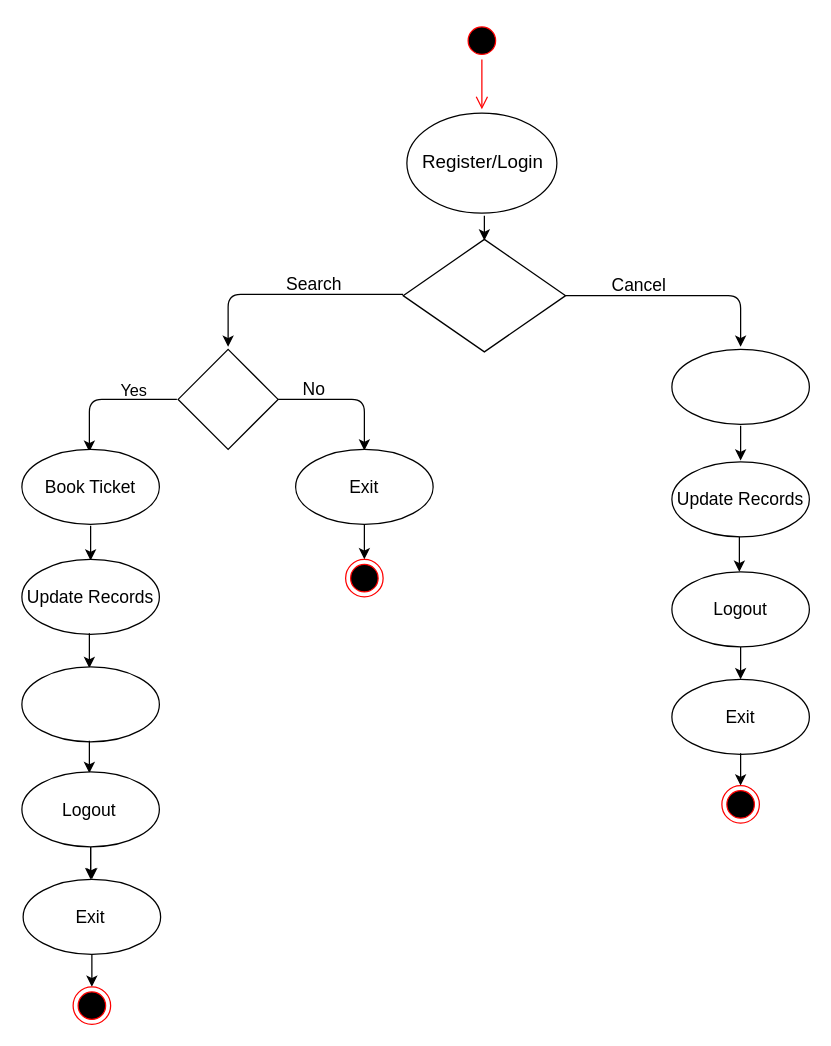
Image size: 831x1046. Some labels were removed from this diagram. The box of each missing label's shape, as (x1, y1, x2, y2) in pixels:
Available: (177, 348, 278, 449)
Cancel Ticket: (671, 348, 809, 424)
Search event/ Cancel ticket: (402, 238, 566, 352)
Track Event: (21, 666, 159, 742)
